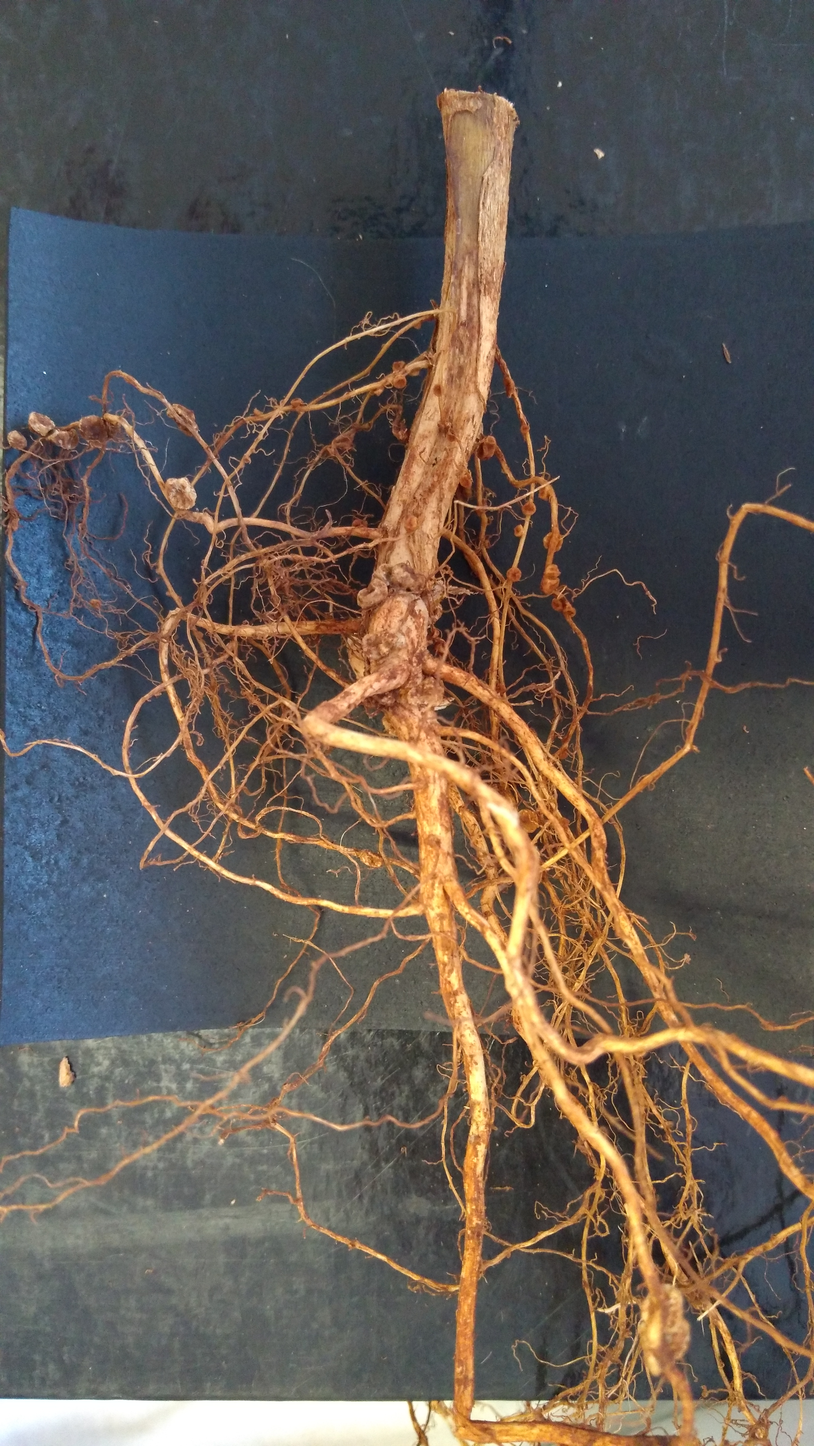nodule: (629, 1279, 691, 1383), (159, 469, 199, 515), (162, 401, 205, 442), (406, 672, 448, 707), (388, 561, 427, 595), (354, 578, 389, 612), (76, 413, 110, 445), (359, 631, 395, 661), (26, 410, 57, 438), (515, 807, 543, 837), (47, 428, 81, 452), (538, 561, 561, 595), (474, 433, 498, 463), (5, 428, 30, 455), (357, 848, 385, 871), (541, 530, 565, 554), (100, 413, 122, 438), (504, 565, 527, 583), (502, 376, 517, 401), (458, 470, 476, 490), (433, 639, 451, 658), (391, 373, 408, 391), (394, 424, 413, 440), (426, 624, 445, 640), (403, 512, 417, 533), (520, 500, 537, 516), (561, 605, 578, 619), (550, 597, 564, 613), (536, 488, 550, 503), (289, 396, 306, 408), (512, 523, 525, 538), (390, 360, 406, 372), (89, 598, 105, 610), (351, 518, 368, 529), (558, 815, 571, 829), (558, 745, 570, 760), (252, 406, 264, 419), (520, 423, 530, 435)
